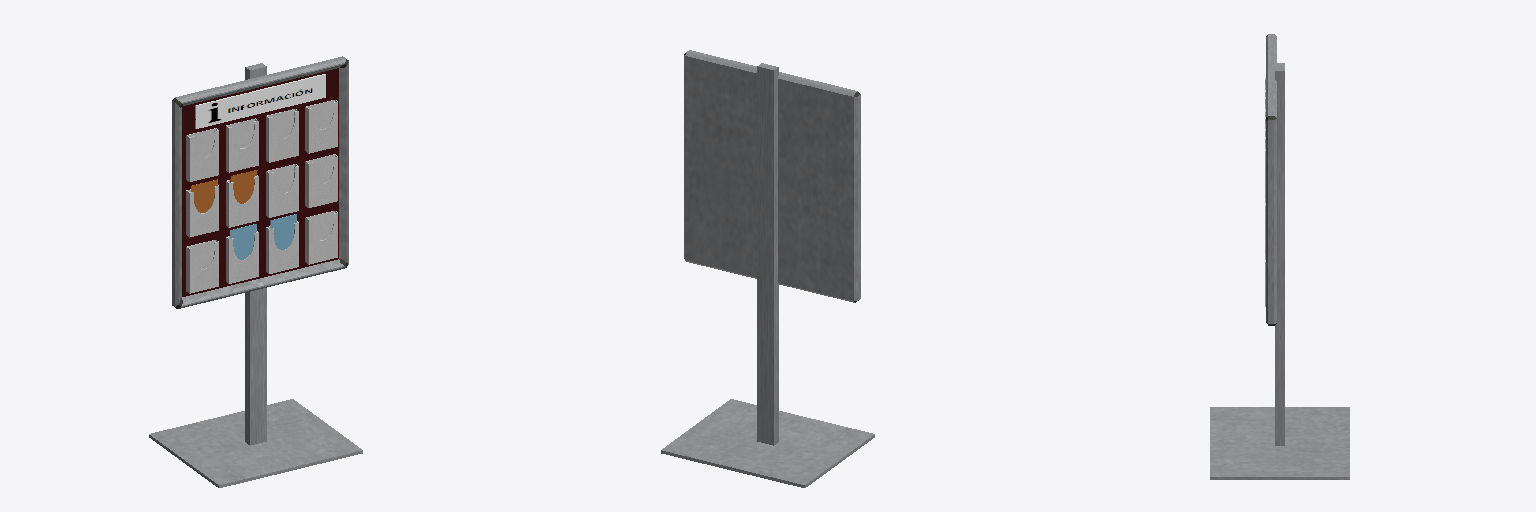
3 views of the same model, side by side, from view 1: azimuth 30°, elevation 25°; view 2: azimuth 150°, elevation 25°; view 3: azimuth 270°, elevation 25° (orthographic).
Visible parts, largest first — view 1: mueble_folletos:pCube9; view 2: mueble_folletos:pCube9; view 3: mueble_folletos:pCube9.
Part boxes in pixels (left/top/right/bottom): mueble_folletos:pCube9: left=149, top=56, right=362, bottom=487; mueble_folletos:pCube9: left=661, top=50, right=874, bottom=487; mueble_folletos:pCube9: left=1210, top=34, right=1349, bottom=479.
Size of the model in its own units: 0.4336 by 0.9034 by 0.3035.
Materials: 8 (7 with a texture image).